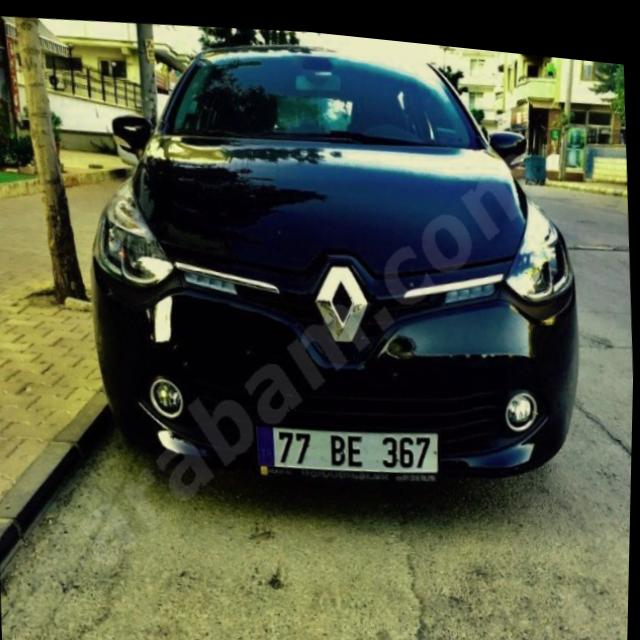license_plate: (256, 407, 443, 474)
